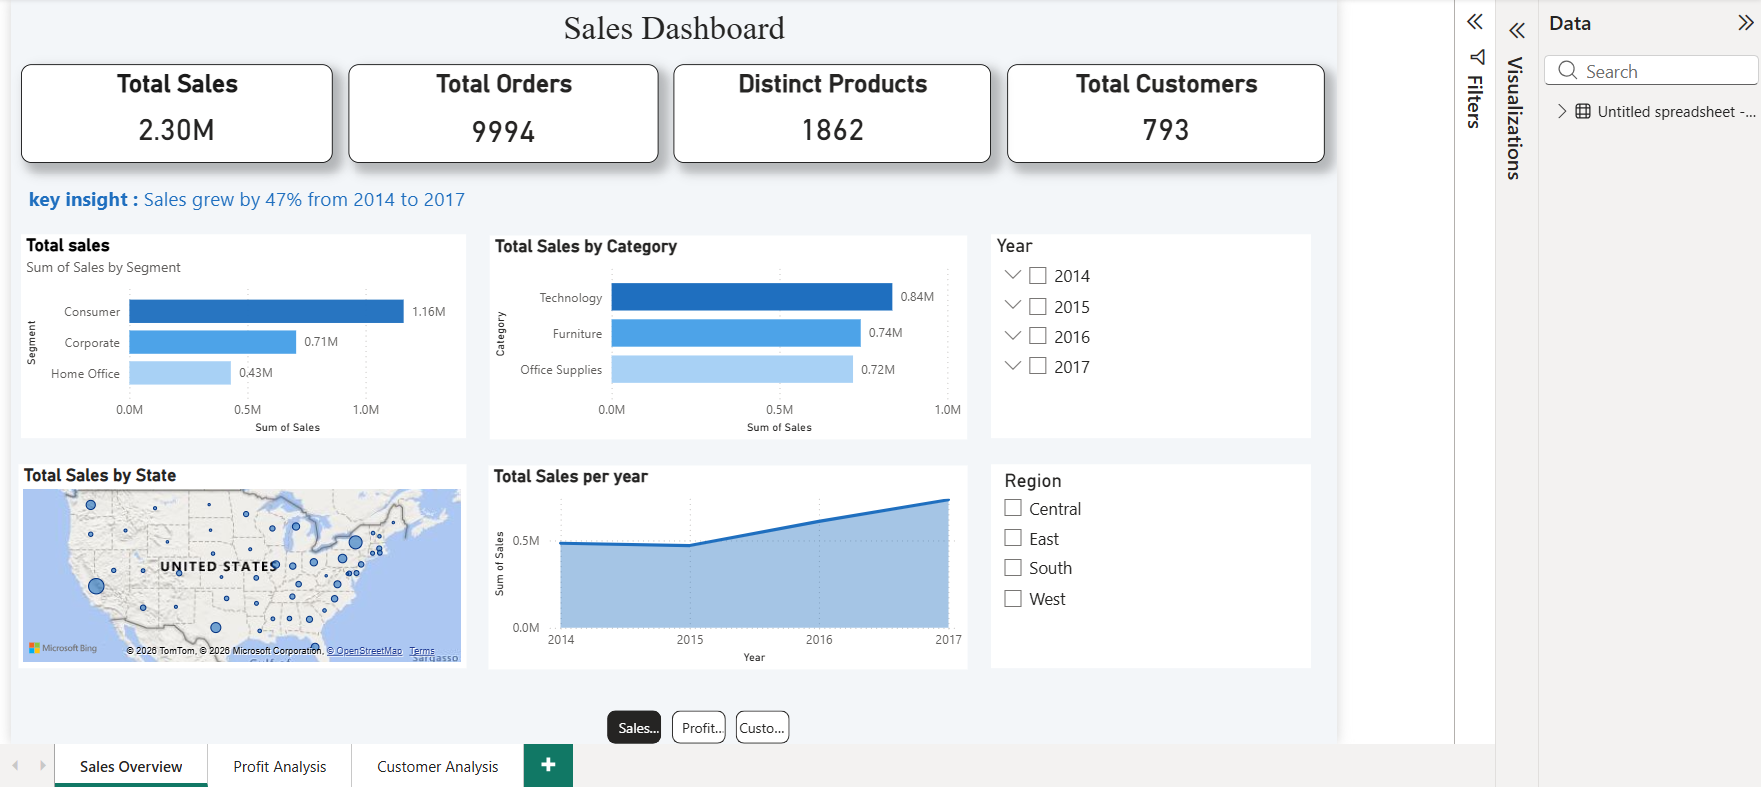

This screenshot's page, from the dashboard's own definition file:
{"tool":"powerbi","page":{"name":"Page 1","canvas":[1280,720],"ordinal":0},"visuals":[{"type":"card","title":"Total Sales","fields":{"Values":["Sum(Untitled spreadsheet - Sample -.Sales)"]},"box":[9.7,63.9,300.4,95.3],"z":0},{"type":"card","title":"Total Orders","fields":{"Values":["CountNonNull(Untitled spreadsheet - Sample -.Order_ID)"]},"box":[325.7,63.9,299.2,95.3],"z":1000},{"type":"areaChart","title":"Total Sales per year","fields":{"Category":["Untitled spreadsheet - Sample -.Order_Date.Variation.Date Hierarchy.Year"],"Y":["Sum(Untitled spreadsheet - Sample -.Sales)"]},"box":[460.9,451.2,462.1,196.6],"z":2000},{"type":"barChart","title":"Total sales","fields":{"Y":["Sum(Untitled spreadsheet - Sample -.Sales)"],"Category":["Untitled spreadsheet - Sample -.Segment"]},"box":[9.7,228,429.5,196.6],"z":3000},{"type":"slicer","title":"Year","fields":{"Values":["Untitled spreadsheet - Sample -.Order_Date.Variation.Date Hierarchy.Year","Untitled spreadsheet - Sample -.Segment"]},"box":[945.8,228,308.8,196.6],"z":4000},{"type":"map","title":"Total Sales by State","fields":{"Size":["Sum(Untitled spreadsheet - Sample -.Sales)"],"Category":["Untitled spreadsheet - Sample -.State"]},"box":[7.2,450,431.9,196.6],"z":5000},{"type":"textbox","box":[0,4.8,1280,59.1],"z":6000},{"type":"slicer","fields":{"Values":["Untitled spreadsheet - Sample -.Region"]},"box":[945.8,450,308.8,196.6],"z":7000},{"type":"barChart","title":"Total Sales by Category","fields":{"Category":["Untitled spreadsheet - Sample -.Category"],"Y":["Sum(Untitled spreadsheet - Sample -.Sales)"]},"box":[462.1,229.2,460.9,196.6],"z":8000},{"type":"card","title":"Total Customers","fields":{"Values":["Count(Untitled spreadsheet - Sample -.Customer_ID)"]},"box":[961.5,63.9,306.4,95.3],"z":9000},{"type":"card","title":"Distinct Products","fields":{"Values":["Count(Untitled spreadsheet - Sample -.Product_ID)"]},"box":[639.4,63.9,306.4,95.3],"z":10000},{"type":"pageNavigator","box":[576,688,176,32],"z":11000},{"type":"textbox","box":[12.1,176.1,567,51.9],"z":11001}]}

Visuals, with their boxes on the page's 1280x720 design canvas (x1, y1, x2, y2). These are canvas units, not pixel positions in the 1761x787 screenshot, which may show the page scaled, cropped or inside an application window:
"Total Sales" card: {"x1": 10, "y1": 64, "x2": 310, "y2": 159}
"Total Orders" card: {"x1": 326, "y1": 64, "x2": 625, "y2": 159}
"Total Sales per year" areaChart: {"x1": 461, "y1": 451, "x2": 923, "y2": 648}
"Total sales" barChart: {"x1": 10, "y1": 228, "x2": 439, "y2": 425}
"Year" slicer: {"x1": 946, "y1": 228, "x2": 1255, "y2": 425}
"Total Sales by State" map: {"x1": 7, "y1": 450, "x2": 439, "y2": 647}
textbox: {"x1": 0, "y1": 5, "x2": 1280, "y2": 64}
slicer - Untitled spreadsheet - Sample -.Region: {"x1": 946, "y1": 450, "x2": 1255, "y2": 647}
"Total Sales by Category" barChart: {"x1": 462, "y1": 229, "x2": 923, "y2": 426}
"Total Customers" card: {"x1": 962, "y1": 64, "x2": 1268, "y2": 159}
"Distinct Products" card: {"x1": 639, "y1": 64, "x2": 946, "y2": 159}
pageNavigator: {"x1": 576, "y1": 688, "x2": 752, "y2": 720}
textbox: {"x1": 12, "y1": 176, "x2": 579, "y2": 228}
